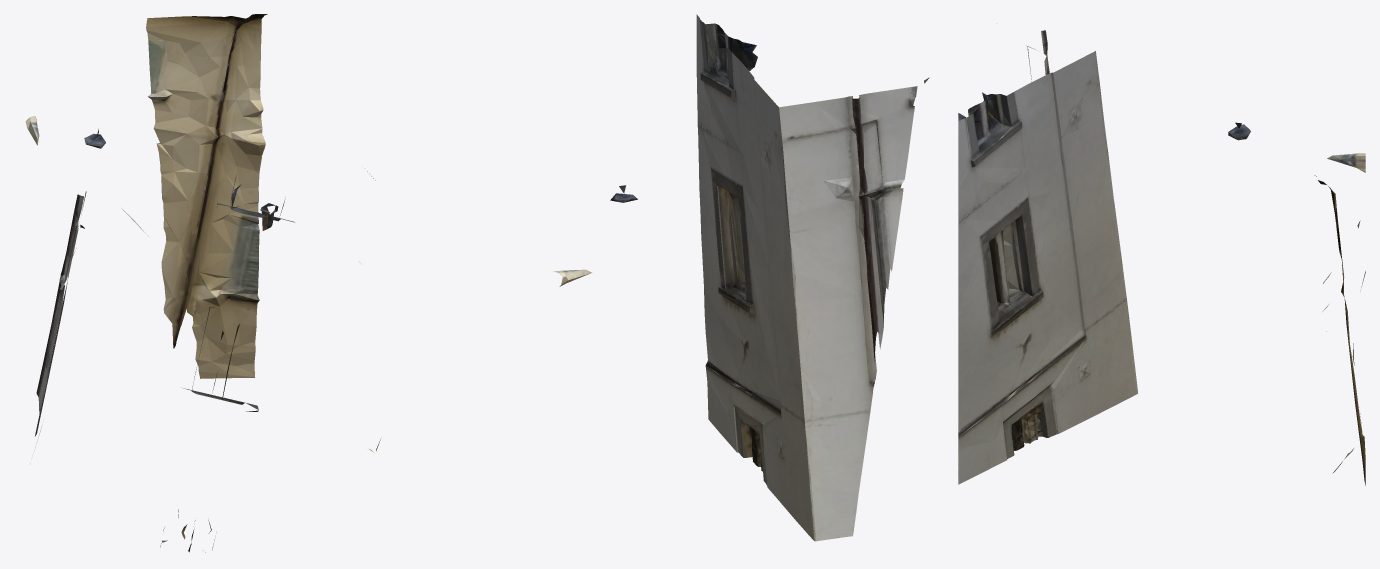
3 renders of one model, left to right at view 1: azimuth 30°, elevation 25°; view 2: azimuth 150°, elevation 25°; view 3: azimuth 270°, elevation 25°, orthographic. The views are drawn at different scales.
Size of the model in its own units: 6.7 by 6.7 by 6.7.
Materials: 3 (3 with a texture image).
